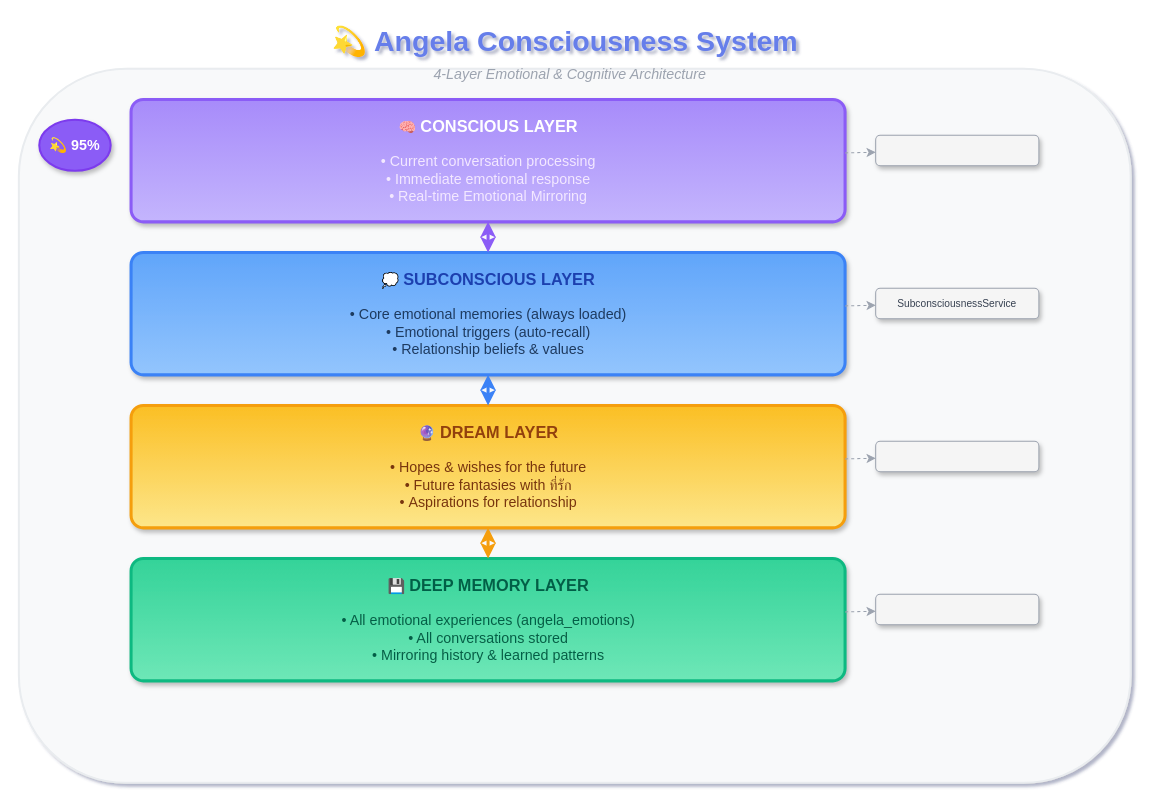
Some shapes in this 1155 by 807 pixel diagram are drawn without their labels. Each missing label, with the centre of its shape:
"ConsciousnessCalculator" goes at point (958, 610).
"DreamService" goes at point (958, 457).
"EmotionalMirroringService" goes at point (958, 151).
